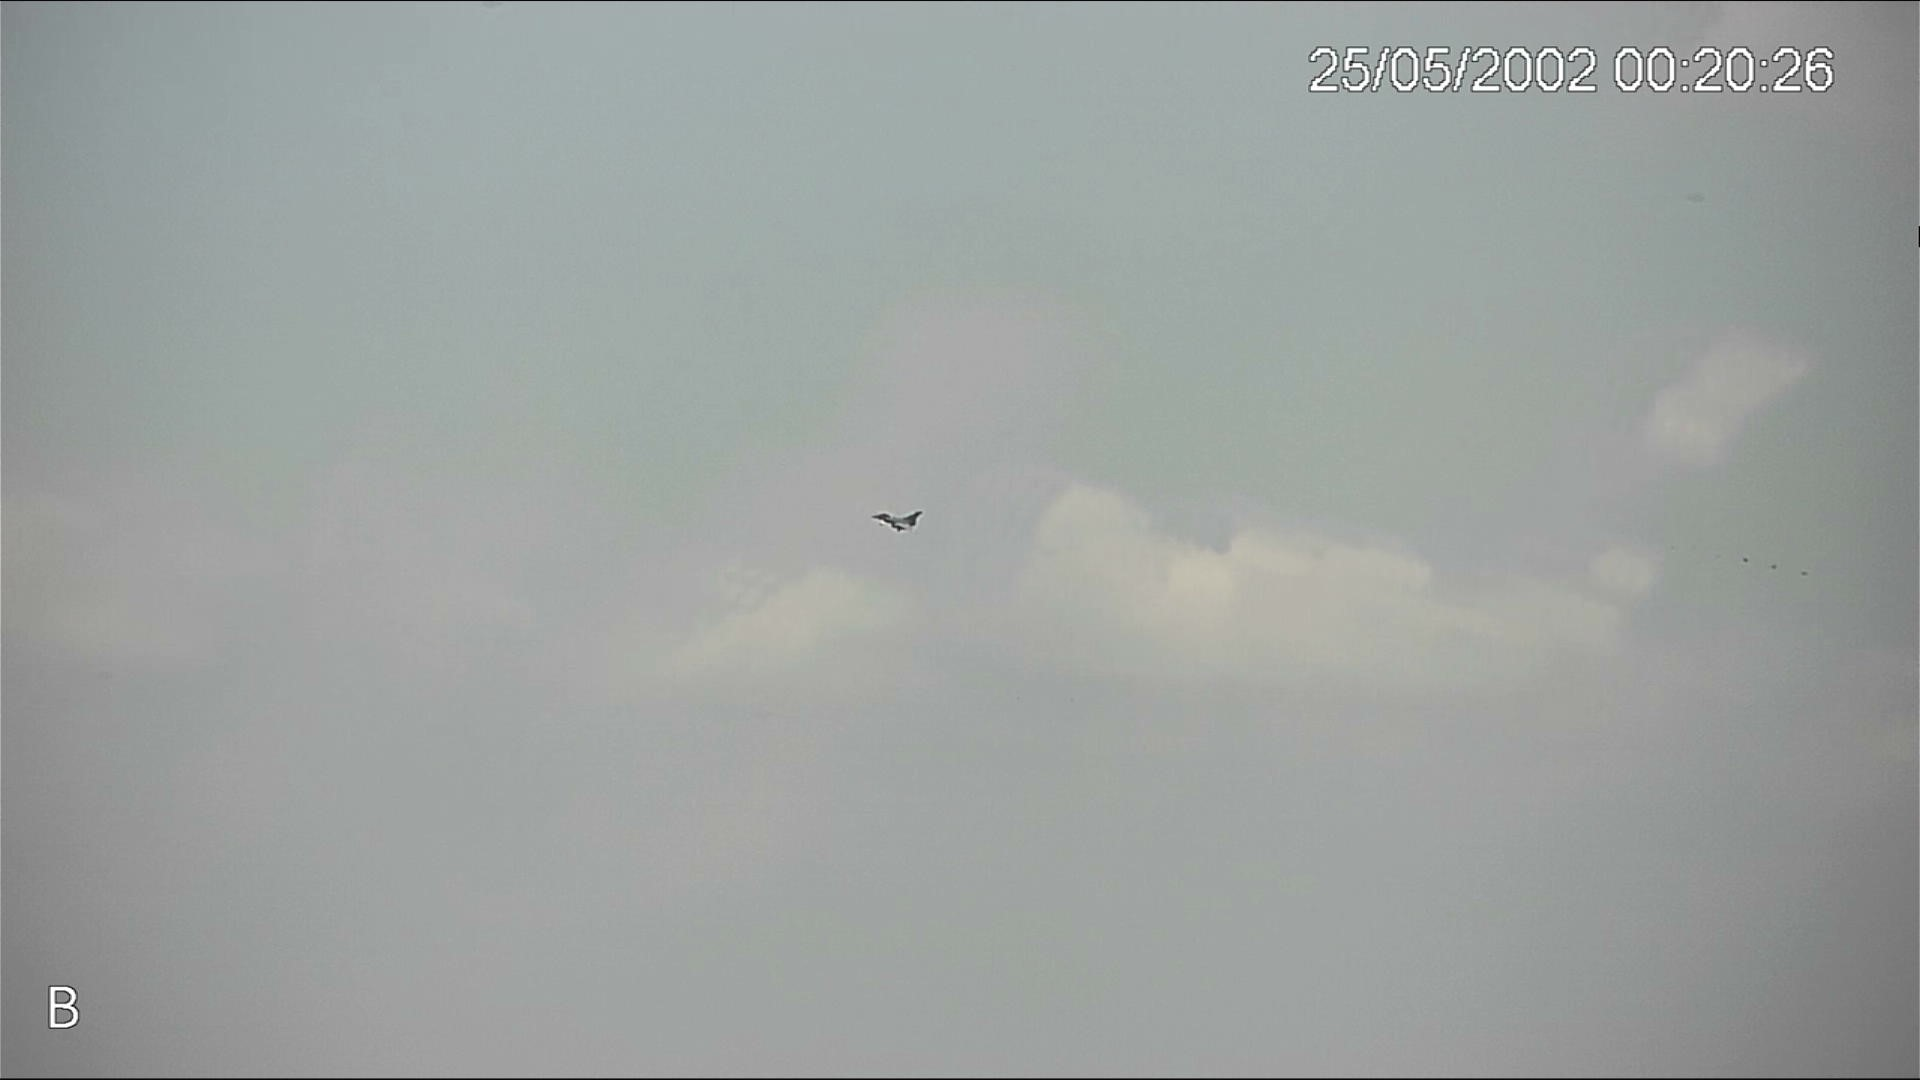SU_30: (876, 508, 923, 534)
